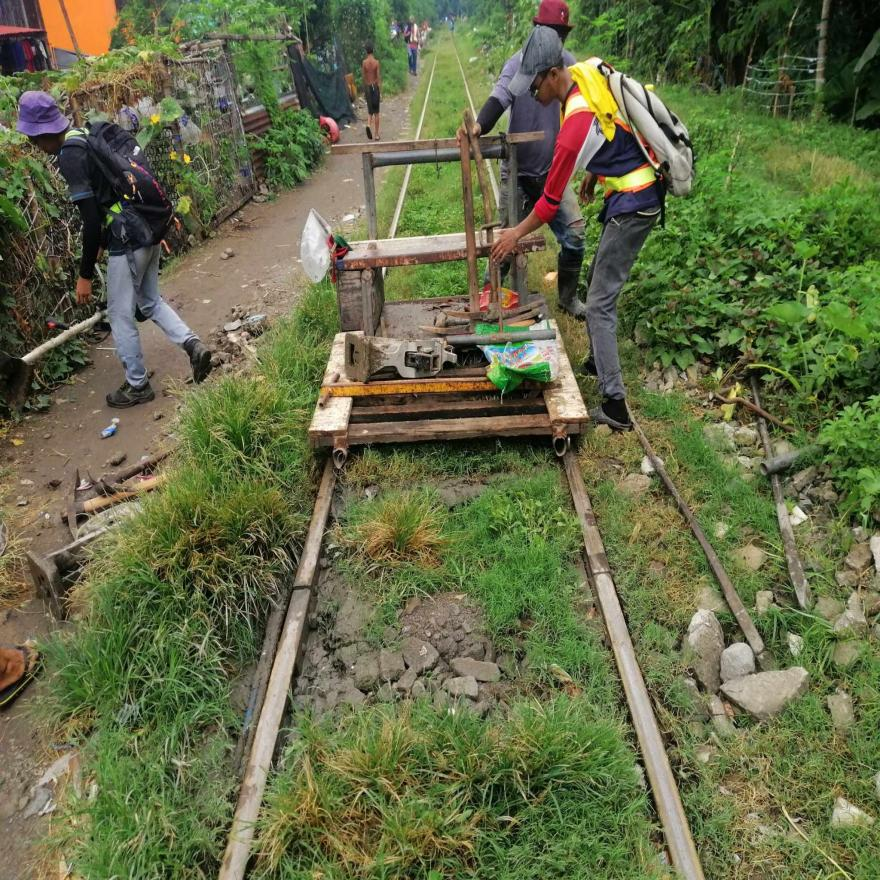railway-gap: (271, 545, 331, 633), (572, 533, 630, 617)
